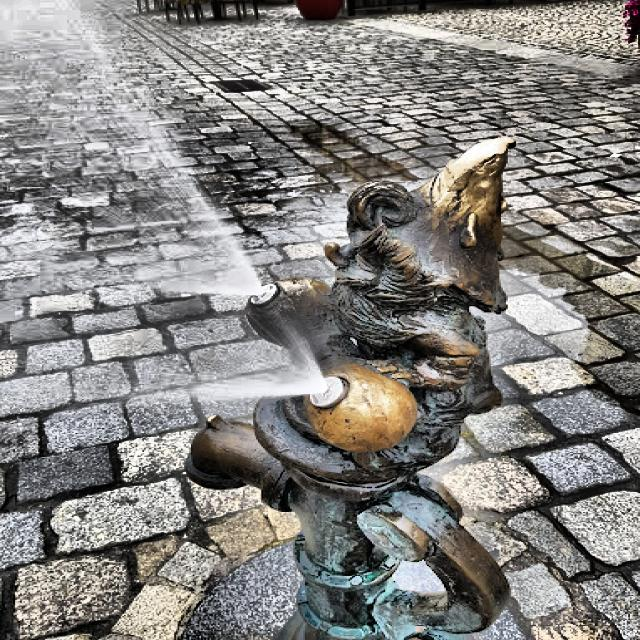Orzezwiacz: (184, 138, 514, 640)
